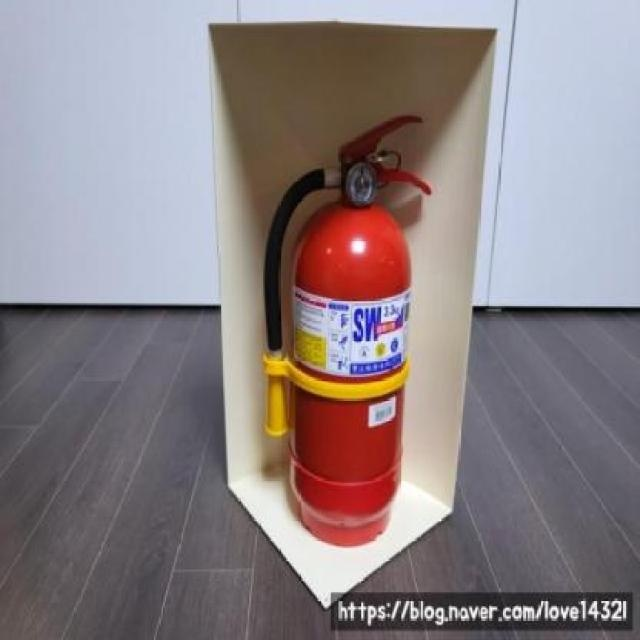fire extinguisher: (264, 114, 433, 548)
